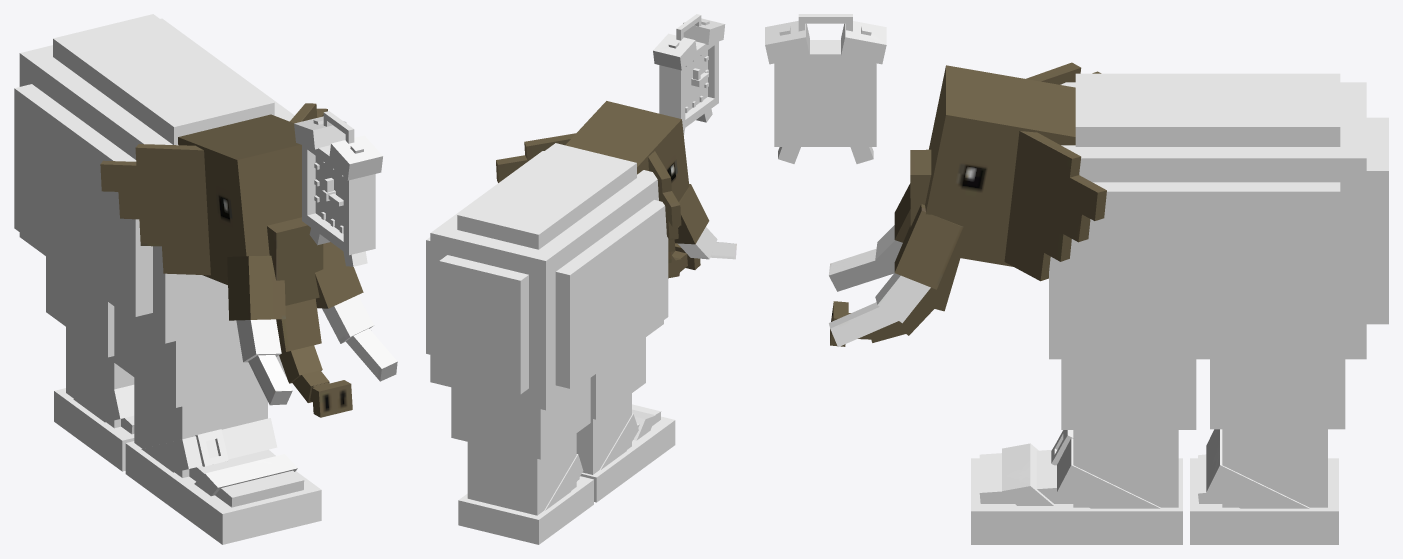
Rendered from LiriliLarila.obj.
The picture shows the model from 3 angles, left to right: view 1: azimuth 30°, elevation 25°; view 2: azimuth 150°, elevation 25°; view 3: azimuth 270°, elevation 25°; orthographic projection. The views are drawn at different scales.
Visible parts, largest first — view 1: lirili_4, lirili_5, lirili_3, lirili_0, lirili_1, lirili_2; view 2: lirili_4, lirili_5, lirili_3, lirili_0, lirili_1; view 3: lirili_4, lirili_5, lirili_3, lirili_0.
Part boxes in pixels (left/top/right/bottom): lirili_4: left=14, top=14, right=304, bottom=507; lirili_5: left=100, top=103, right=397, bottom=417; lirili_3: left=54, top=384, right=321, bottom=544; lirili_0: left=294, top=111, right=382, bottom=266; lirili_1: left=314, top=156, right=343, bottom=233; lirili_2: left=126, top=396, right=284, bottom=480; lirili_4: left=426, top=143, right=668, bottom=515; lirili_5: left=496, top=101, right=736, bottom=278; lirili_3: left=458, top=409, right=675, bottom=544; lirili_0: left=653, top=14, right=725, bottom=135; lirili_1: left=685, top=50, right=708, bottom=112; lirili_4: left=979, top=73, right=1388, bottom=507; lirili_5: left=828, top=62, right=1106, bottom=346; lirili_3: left=971, top=429, right=1338, bottom=544; lirili_0: left=765, top=14, right=886, bottom=163.
Bounding box in the file's own units: 1.94 × 3.75 × 4.21.
